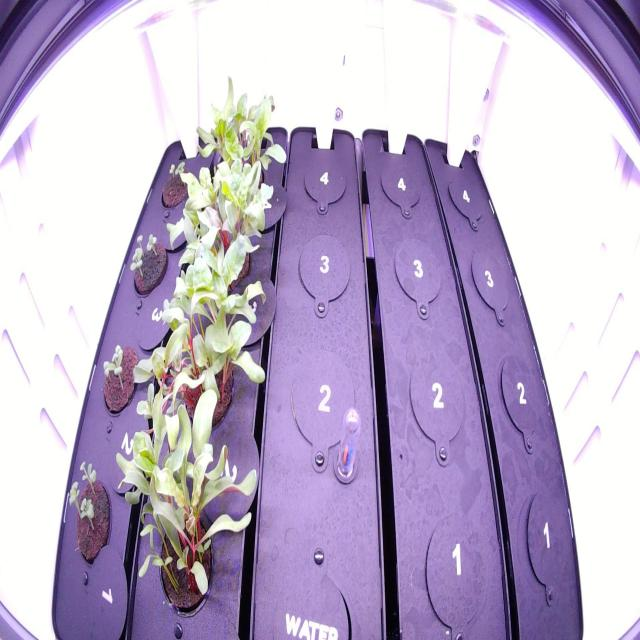empty_pod: (284, 335, 361, 468), (418, 505, 493, 637), (402, 340, 468, 464), (518, 480, 574, 610), (496, 345, 547, 451), (293, 223, 353, 313), (388, 228, 446, 316), (465, 238, 514, 324), (374, 152, 425, 223), (297, 147, 349, 215), (443, 163, 487, 228)
germination: (62, 452, 114, 570), (95, 335, 142, 416), (123, 226, 171, 301), (156, 153, 197, 214)
